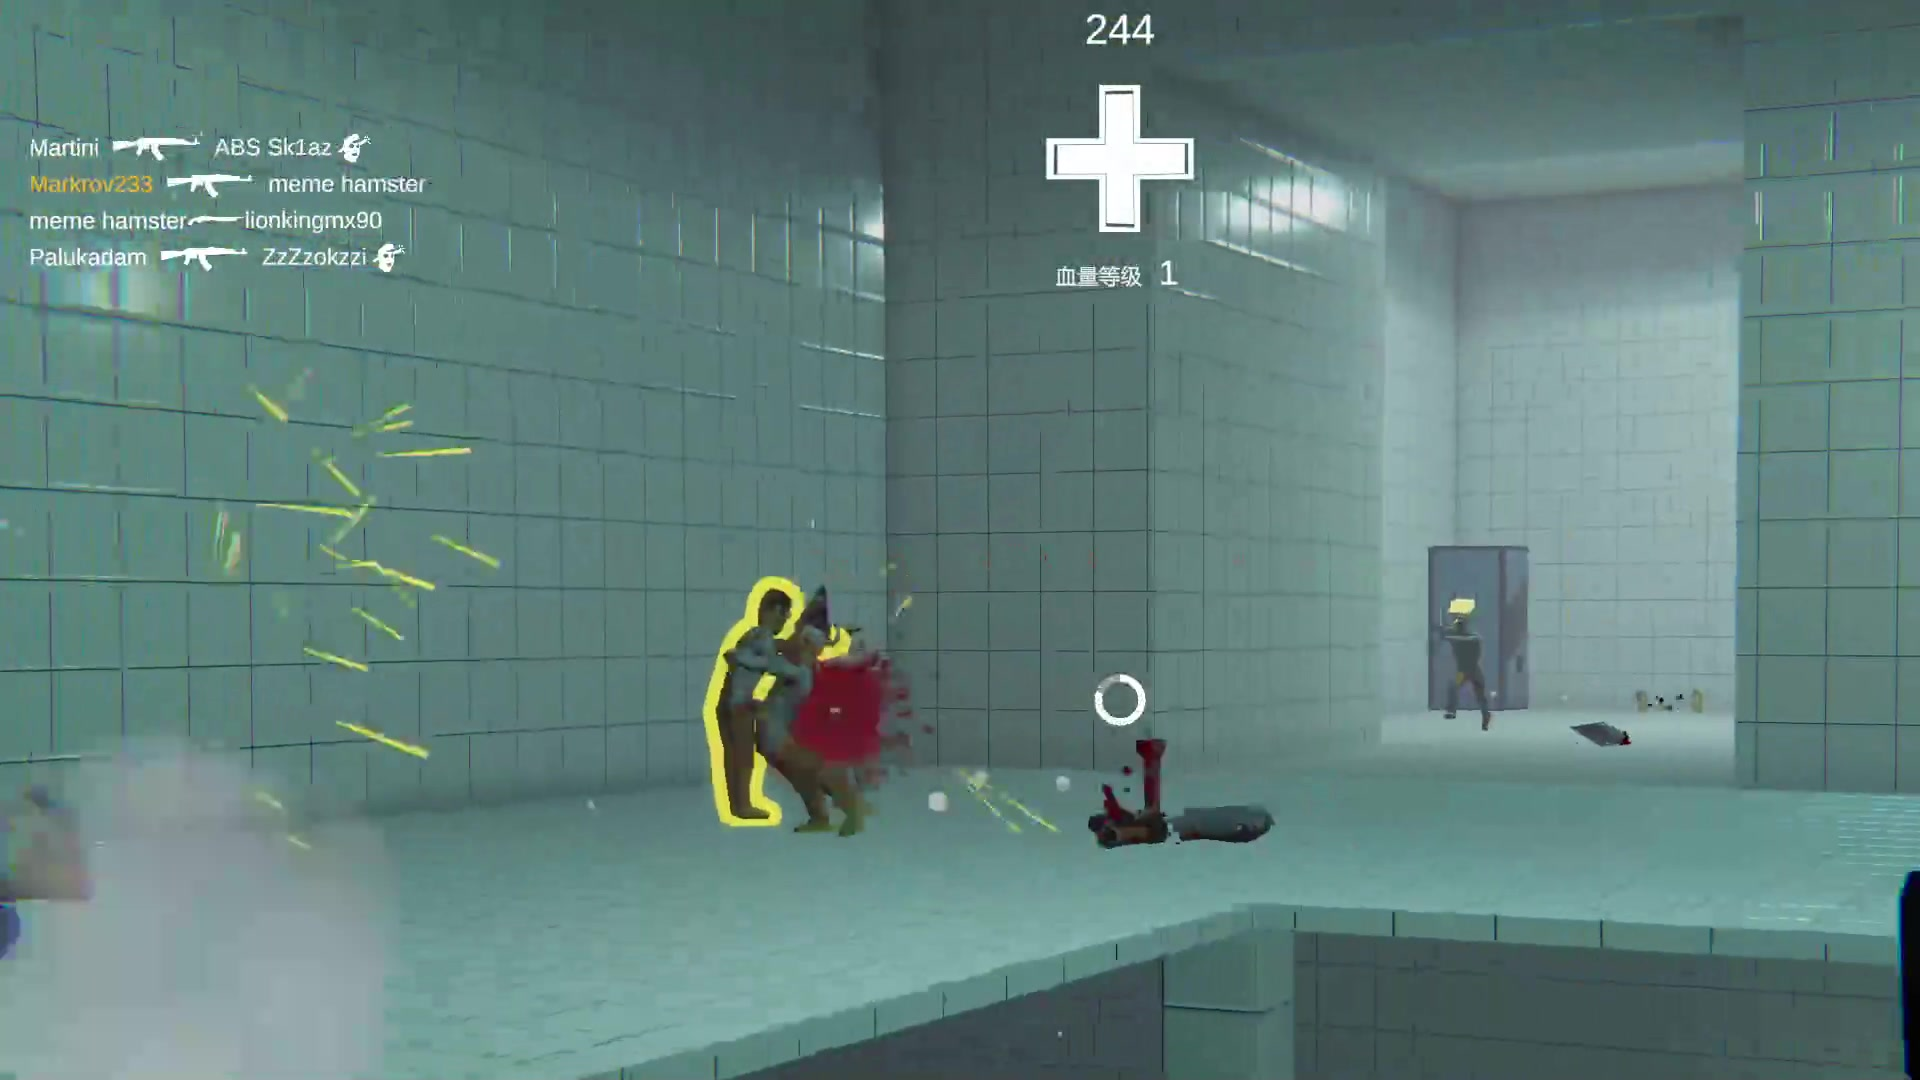human: (735, 566, 770, 840), (1440, 601, 1489, 728)
